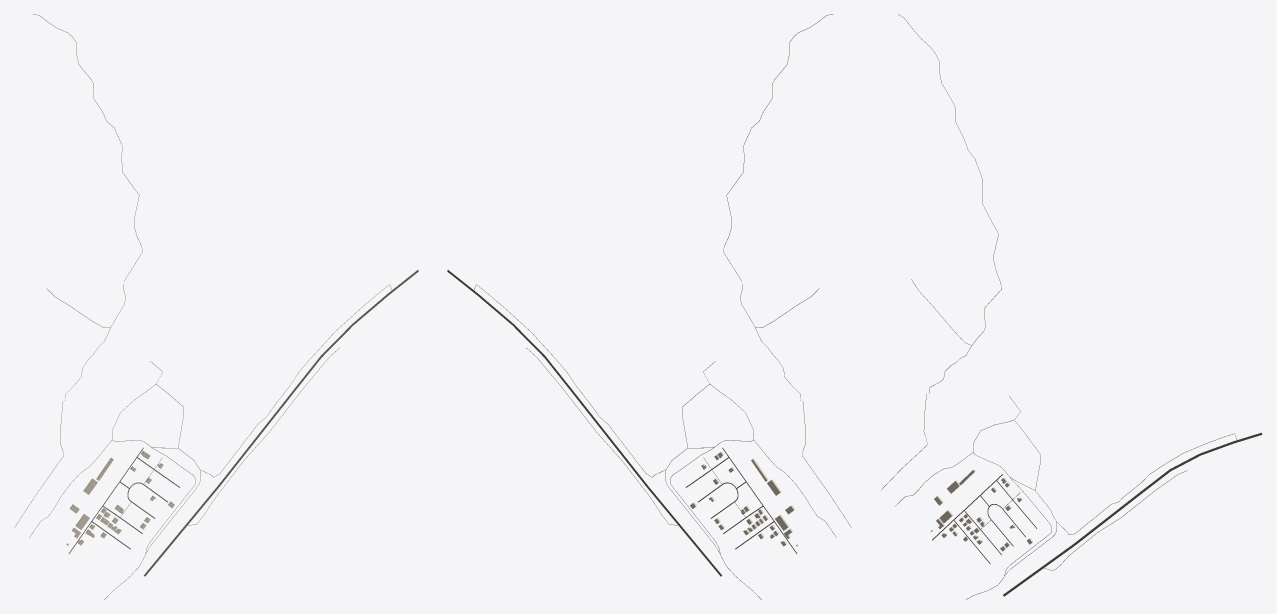
File: historic-palestine-04_20_3461_3142.glb
3 renders of one model, left to right at view 1: azimuth 30°, elevation 25°; view 2: azimuth 150°, elevation 25°; view 3: azimuth 330°, elevation 25°, orthographic. The views are drawn at different scales.
Parts seen in each view (by area): view 1: Road 293, Road .004; view 2: Road 293, Road .004; view 3: Road 293, Road .004.
Boxes of the visible parts, left/top/right/bottom form: Road 293: left=144, top=270, right=418, bottom=576; Road .004: left=14, top=14, right=142, bottom=527; Road 293: left=447, top=270, right=721, bottom=576; Road .004: left=723, top=14, right=851, bottom=527; Road 293: left=1003, top=432, right=1262, bottom=596; Road .004: left=881, top=14, right=1001, bottom=489.
Bounding box in the file's own units: 1530 × 2179 × 8.7.
